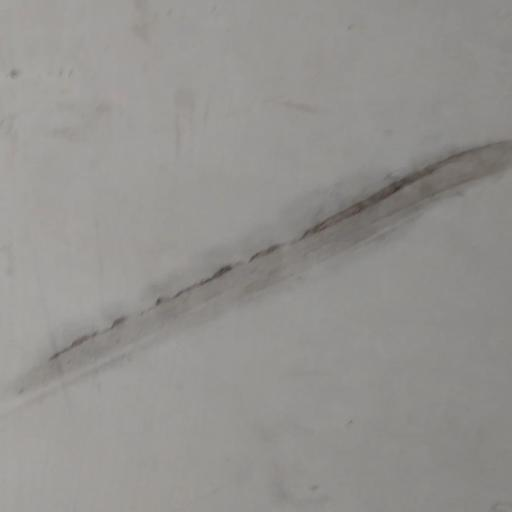stain: (32, 109, 512, 394), (27, 190, 512, 419)
